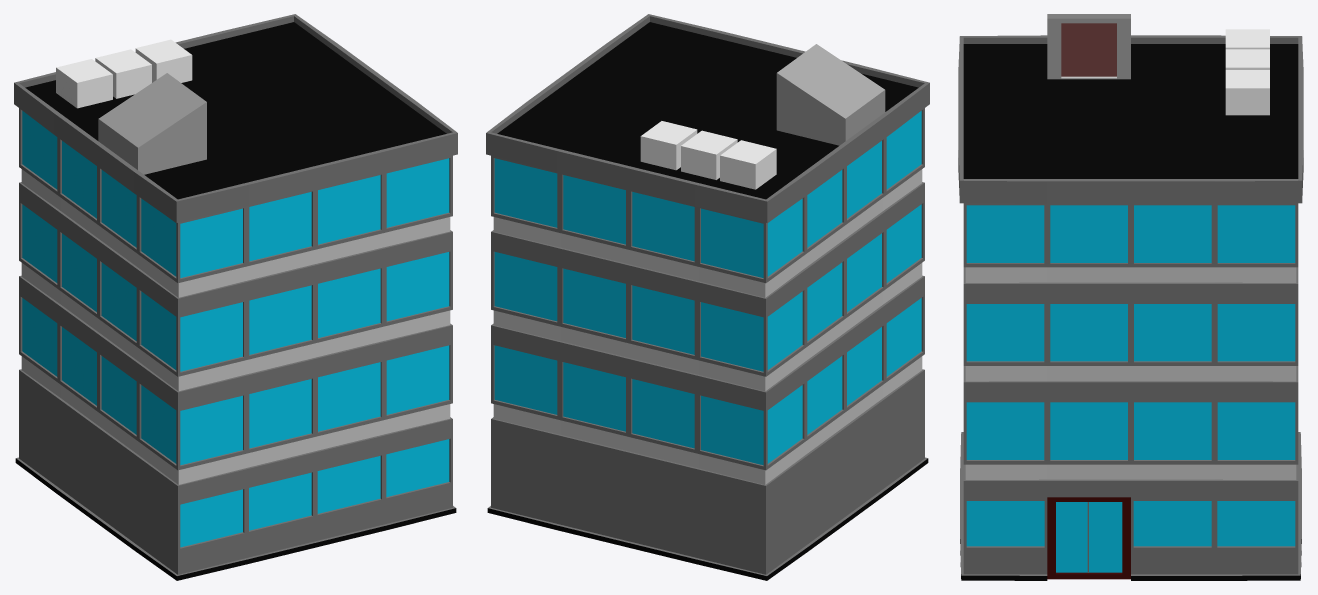
Rendered from items.fbx.
3 renders of one model, left to right at view 1: azimuth 30°, elevation 25°; view 2: azimuth 150°, elevation 25°; view 3: azimuth 270°, elevation 25°, orthographic. The views are drawn at different scales.
Parts seen in each view (by area): view 1: Building.001; view 2: Building.001; view 3: Building.001.
Part boxes in pixels (x1,y1,x2,y2): Building.001: [14, 14, 457, 580]; Building.001: [486, 14, 929, 580]; Building.001: [958, 14, 1303, 580].
Size of the model in its own units: 10.33 by 10.33 by 16.42.
